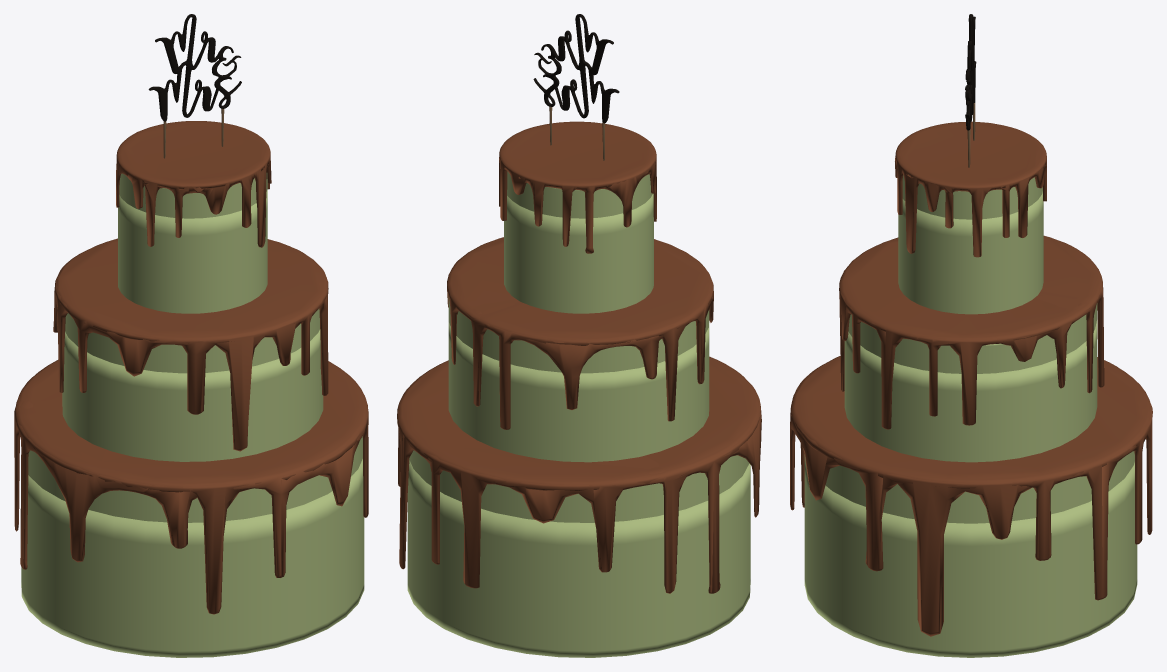
The model's file is 3-tier-pistage-ganache-mrms.glb.
The picture shows the model from 3 angles, left to right: view 1: azimuth 30°, elevation 25°; view 2: azimuth 150°, elevation 25°; view 3: azimuth 270°, elevation 25°; orthographic projection.
Parts seen in each view (by area): view 1: Cylinder.022, tHE ICING.005, Cylinder.014, tHE ICING.002, Cylinder.021, tHE ICING.001, mrms.003; view 2: Cylinder.022, tHE ICING.005, Cylinder.014, tHE ICING.002, Cylinder.021, tHE ICING.001, mrms.003; view 3: Cylinder.022, tHE ICING.005, Cylinder.014, tHE ICING.002, Cylinder.021, tHE ICING.001, mrms.003.
Boxes of the visible parts, x1,y1,x2,y2 form: Cylinder.022: (21,436,364,657); tHE ICING.005: (14,360,368,614); Cylinder.014: (62,309,323,461); tHE ICING.002: (53,238,328,451); Cylinder.021: (118,173,267,313); tHE ICING.001: (116,121,271,247); mrms.003: (148,14,241,158); Cylinder.022: (407,450,750,657); tHE ICING.005: (397,356,761,593); Cylinder.014: (448,297,709,462); tHE ICING.002: (447,237,713,429); Cylinder.021: (504,171,653,313); tHE ICING.001: (499,121,656,253); mrms.003: (533,14,619,160); Cylinder.022: (804,451,1137,657); tHE ICING.005: (790,356,1152,636); Cylinder.014: (844,303,1097,462); tHE ICING.002: (839,235,1104,429); Cylinder.021: (898,175,1043,314); tHE ICING.001: (895,121,1046,257); mrms.003: (965,14,976,167).
Size of the model in its own units: 4.33 by 7.67 by 4.43.
